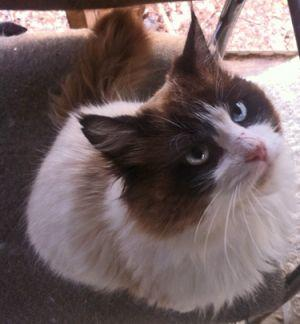ragdoll: (80, 12, 294, 244)
